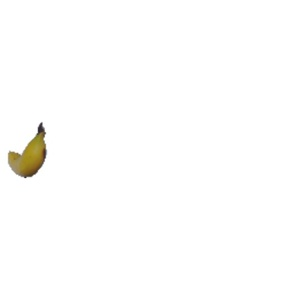banana: (1, 123, 50, 181)
